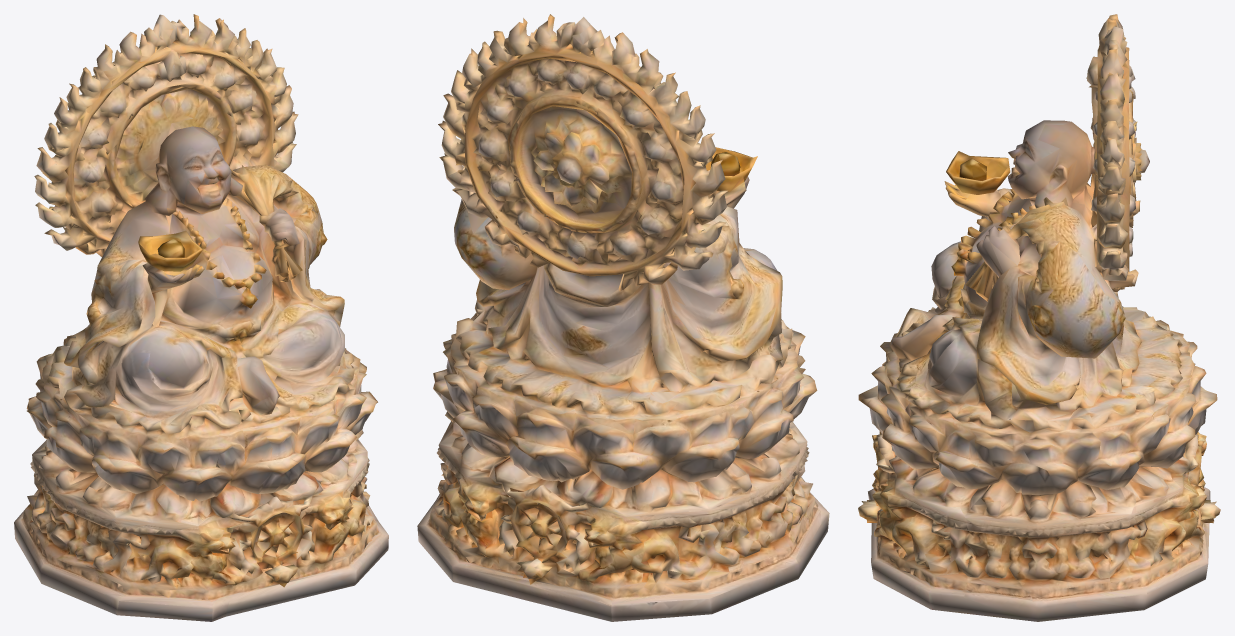
3 views of the same model, side by side, from view 1: azimuth 30°, elevation 25°; view 2: azimuth 150°, elevation 25°; view 3: azimuth 270°, elevation 25° (orthographic). The views are drawn at different scales.
Visible parts, largest first — view 1: owner-collection20-01; view 2: owner-collection20-01; view 3: owner-collection20-01.
Boxes of the visible parts, box(x1,y1,x2,y2) form: owner-collection20-01: box(14, 14, 388, 621); owner-collection20-01: box(417, 14, 829, 621); owner-collection20-01: box(858, 14, 1220, 621).
Size of the model in its own units: 0.6651 by 0.999 by 0.6369.
Materials: 1 (1 with a texture image).
